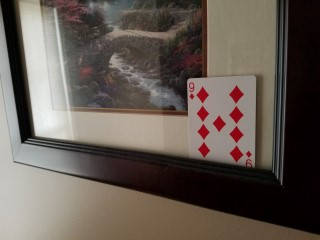NineOfDiamonds: (187, 75, 257, 172)
